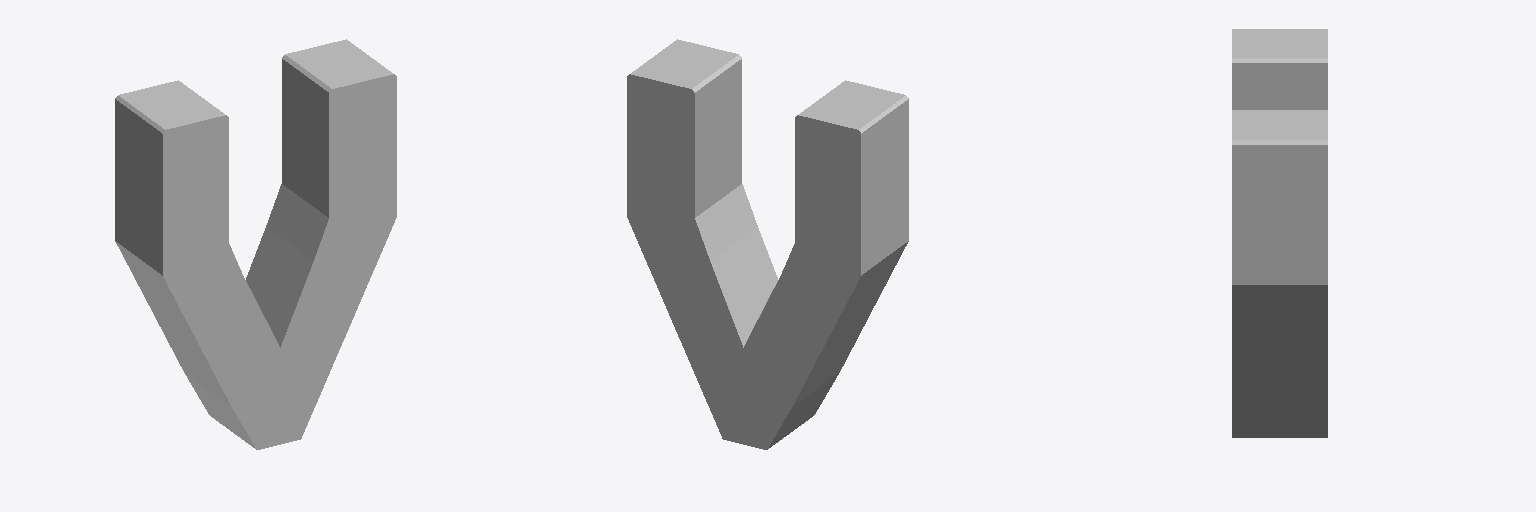
The picture shows the model from 3 angles: view 1: azimuth 30°, elevation 25°; view 2: azimuth 150°, elevation 25°; view 3: azimuth 270°, elevation 25°; orthographic projection.
Visible parts, largest first — view 1: text: ABCDEFGHIJKLMNOPQRSTUVWXYZ[number redacted]; view 2: text: ABCDEFGHIJKLMNOPQRSTUVWXYZ[number redacted]; view 3: text: ABCDEFGHIJKLMNOPQRSTUVWXYZ[number redacted].
Part boxes in pixels (x1,y1,x2,y2): text: ABCDEFGHIJKLMNOPQRSTUVWXYZ[number redacted]: (115,39,396,449); text: ABCDEFGHIJKLMNOPQRSTUVWXYZ[number redacted]: (627,39,908,449); text: ABCDEFGHIJKLMNOPQRSTUVWXYZ[number redacted]: (1232,29,1327,437).
Bounding box in the file's own units: 71.06 × 99.29 × 25.